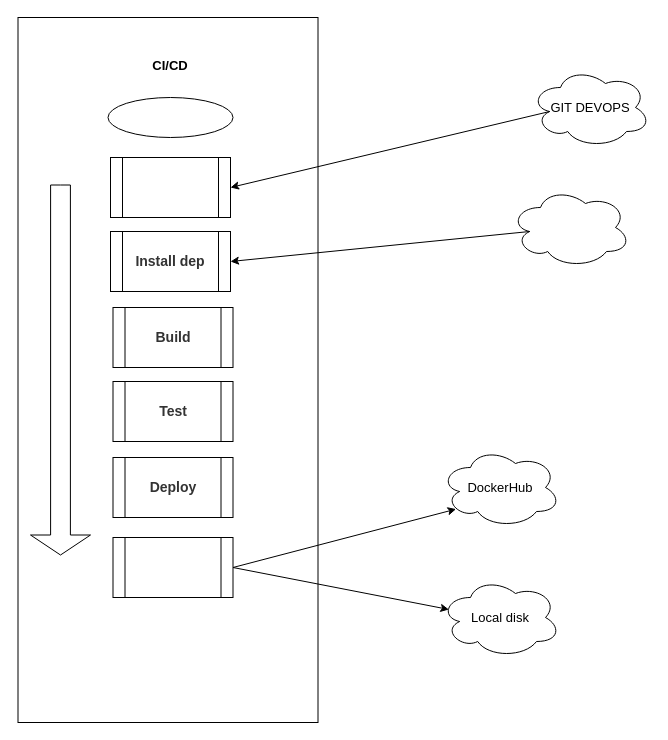
Image size: 668x740. Some labels were removed from this diagram. The shapes that lost their labels are listed below. From the top down, each one's centre as x and y in pixels, then its label:
At point (170, 117): "Start".
At point (170, 187): "Clone repo".
At point (570, 227): "NPM".
At point (172, 567): "Publish".
